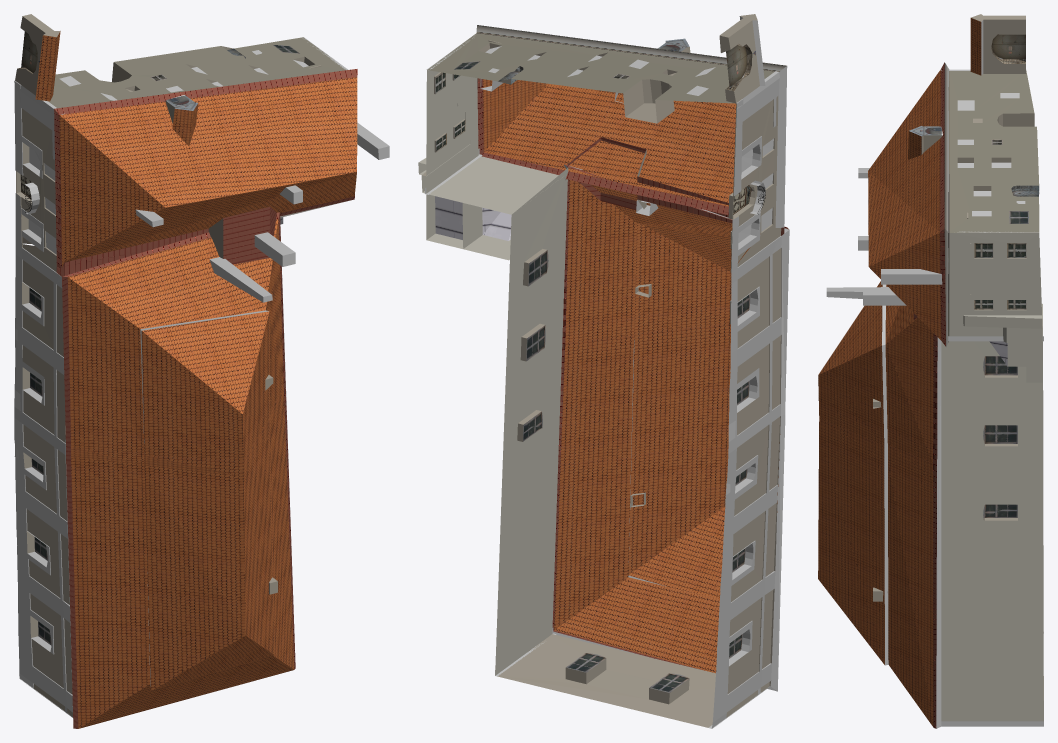
The model's file is Ryytli 9-origo.obj.
The picture shows the model from 3 angles, left to right: view 1: azimuth 30°, elevation 25°; view 2: azimuth 150°, elevation 25°; view 3: azimuth 270°, elevation 25°; orthographic projection. The views are drawn at different scales.
Parts seen in each view (by area): view 1: Ryytli_9; view 2: Ryytli_9; view 3: Ryytli_9.
Part boxes in pixels (left/top/right/bottom): Ryytli_9: left=14, top=14, right=389, bottom=728; Ryytli_9: left=418, top=14, right=789, bottom=728; Ryytli_9: left=818, top=14, right=1043, bottom=728.
Size of the model in its own units: 28.38 by 59.5 by 19.69.
